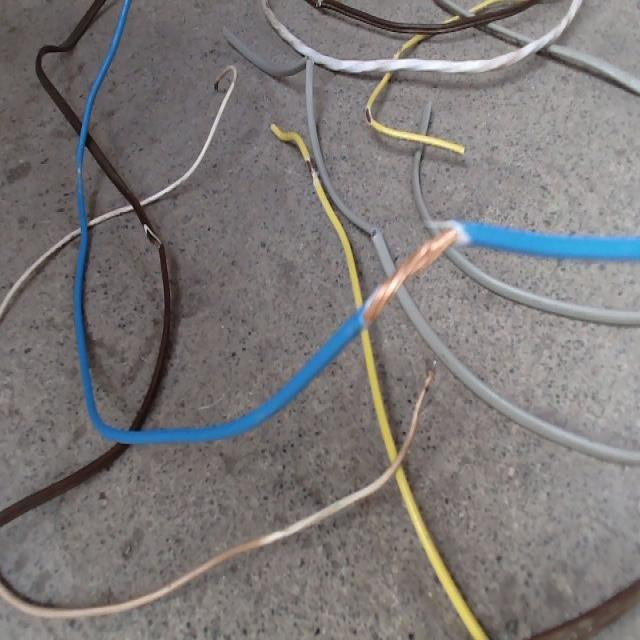-: (362, 221, 465, 328), (142, 222, 162, 255), (304, 155, 318, 180), (364, 105, 372, 124)
